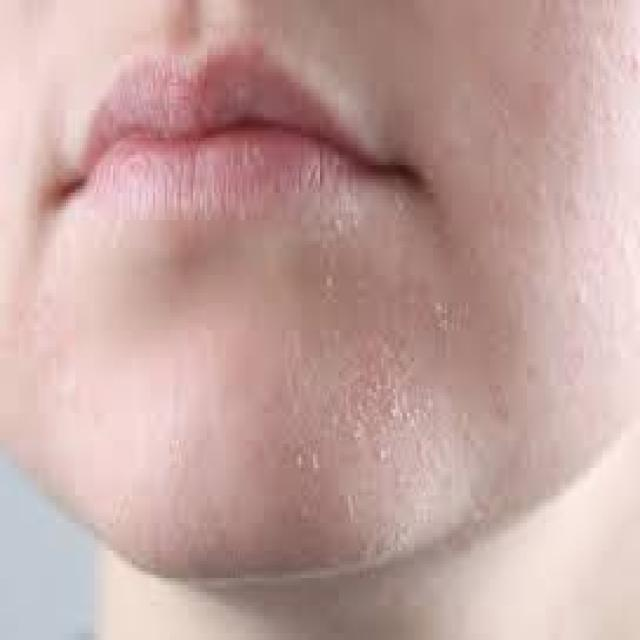flakiness: (313, 258, 457, 446)
